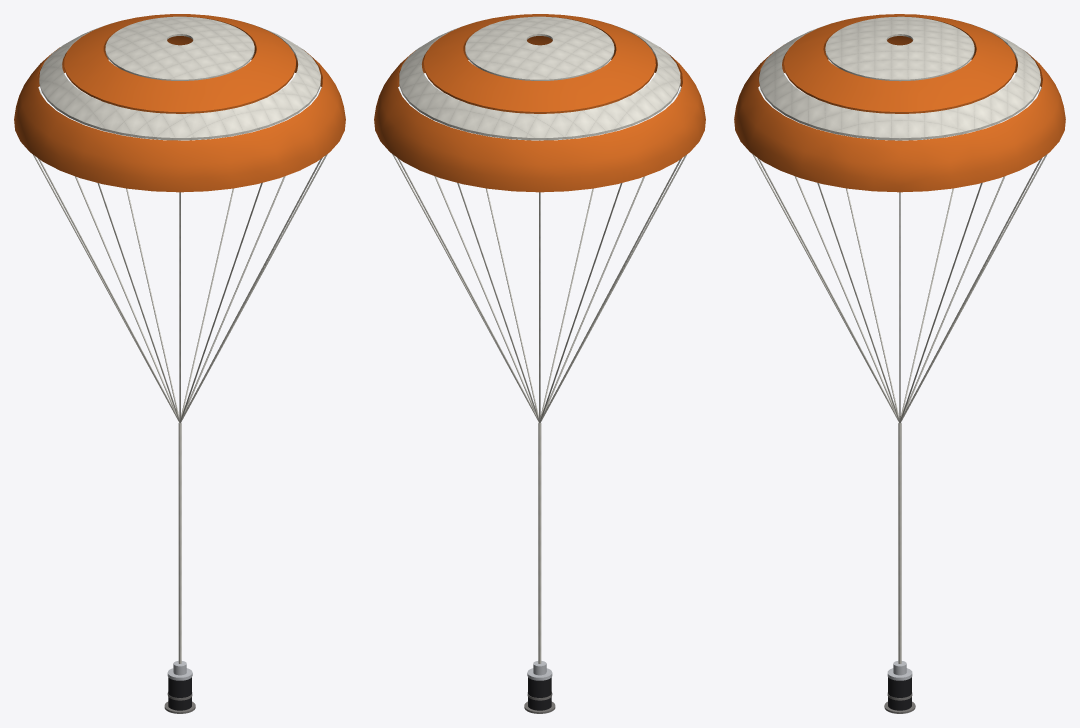
Rendered from stage07_drogue_chute_deployed.glb.
The picture shows the model from 3 angles, left to right: view 1: azimuth 30°, elevation 25°; view 2: azimuth 150°, elevation 25°; view 3: azimuth 270°, elevation 25°; orthographic projection.
Visible parts, largest first — view 1: canopy_ring_3, canopy_ring_1, canopy_ring_2, canopy_ring_0, lines_riser, canister; view 2: canopy_ring_3, canopy_ring_1, canopy_ring_2, canopy_ring_0, lines_riser, canister; view 3: canopy_ring_3, canopy_ring_1, canopy_ring_2, canopy_ring_0, lines_riser, canister.
Boxes of the visible parts, bbox=[...] form: canopy_ring_3: bbox=[14, 36, 345, 192]; canopy_ring_1: bbox=[64, 14, 295, 113]; canopy_ring_2: bbox=[39, 19, 320, 140]; canopy_ring_0: bbox=[105, 16, 254, 80]; lines_riser: bbox=[33, 87, 327, 663]; canister: bbox=[168, 677, 191, 710]; canopy_ring_3: bbox=[374, 36, 705, 192]; canopy_ring_1: bbox=[423, 14, 655, 113]; canopy_ring_2: bbox=[399, 20, 680, 140]; canopy_ring_0: bbox=[465, 16, 614, 80]; lines_riser: bbox=[392, 87, 686, 663]; canister: bbox=[528, 677, 551, 710]; canopy_ring_3: bbox=[734, 36, 1065, 192]; canopy_ring_1: bbox=[784, 14, 1015, 113]; canopy_ring_2: bbox=[759, 17, 1040, 140]; canopy_ring_0: bbox=[825, 16, 974, 81]; lines_riser: bbox=[752, 87, 1047, 663]; canister: bbox=[888, 677, 911, 710].
Size of the model in its own units: 5 by 11.1 by 5.
Materials: 5 (3 with a texture image).
